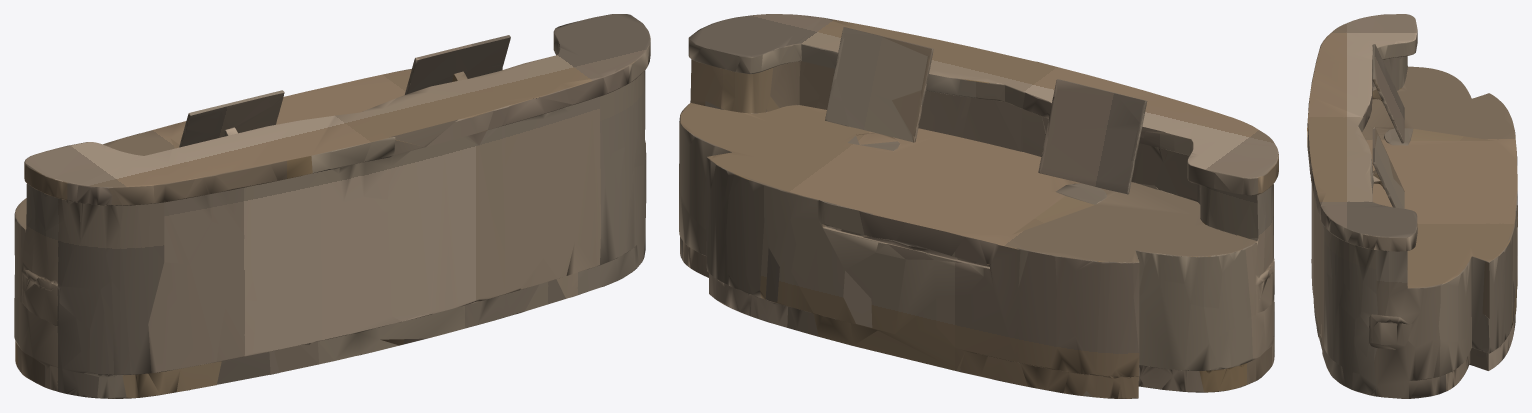
File: term_checkin.glb
3 views of the same model, side by side, from view 1: azimuth 30°, elevation 25°; view 2: azimuth 150°, elevation 25°; view 3: azimuth 270°, elevation 25° (orthographic). The views are drawn at different scales.
Parts seen in each view (by area): view 1: LO; view 2: LO; view 3: LO.
Boxes of the visible parts, left/top/right/bottom form: LO: left=14, top=14, right=650, bottom=398; LO: left=679, top=14, right=1278, bottom=398; LO: left=1307, top=14, right=1517, bottom=398.
Size of the model in its own units: 3.27 by 1.25 by 1.3.
1 material, 1 textured.
